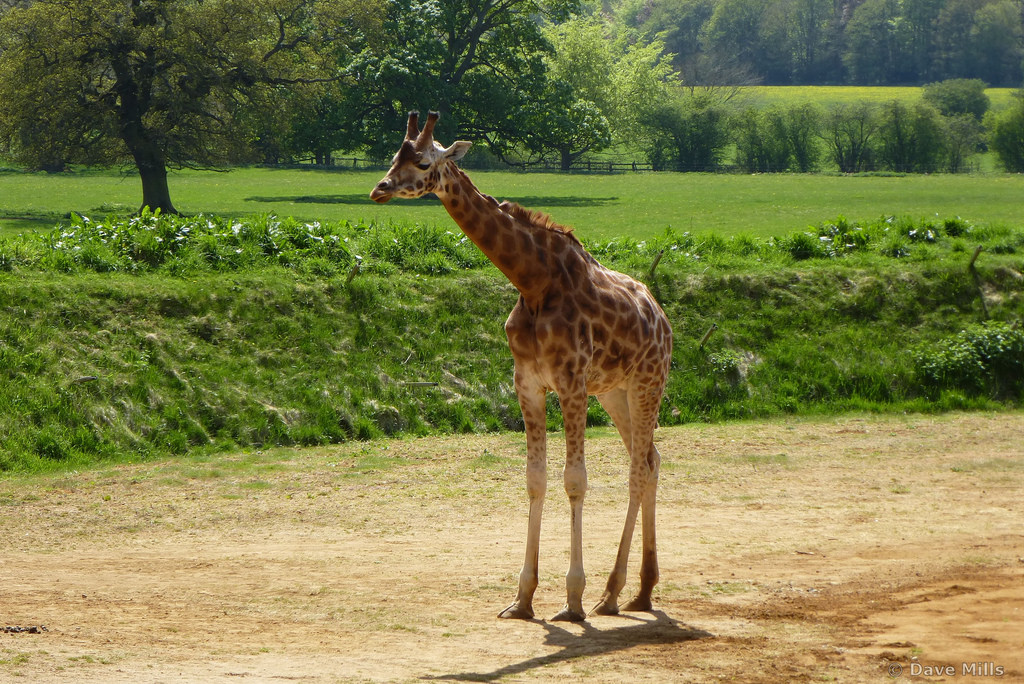giraffe: (375, 110, 708, 666)
